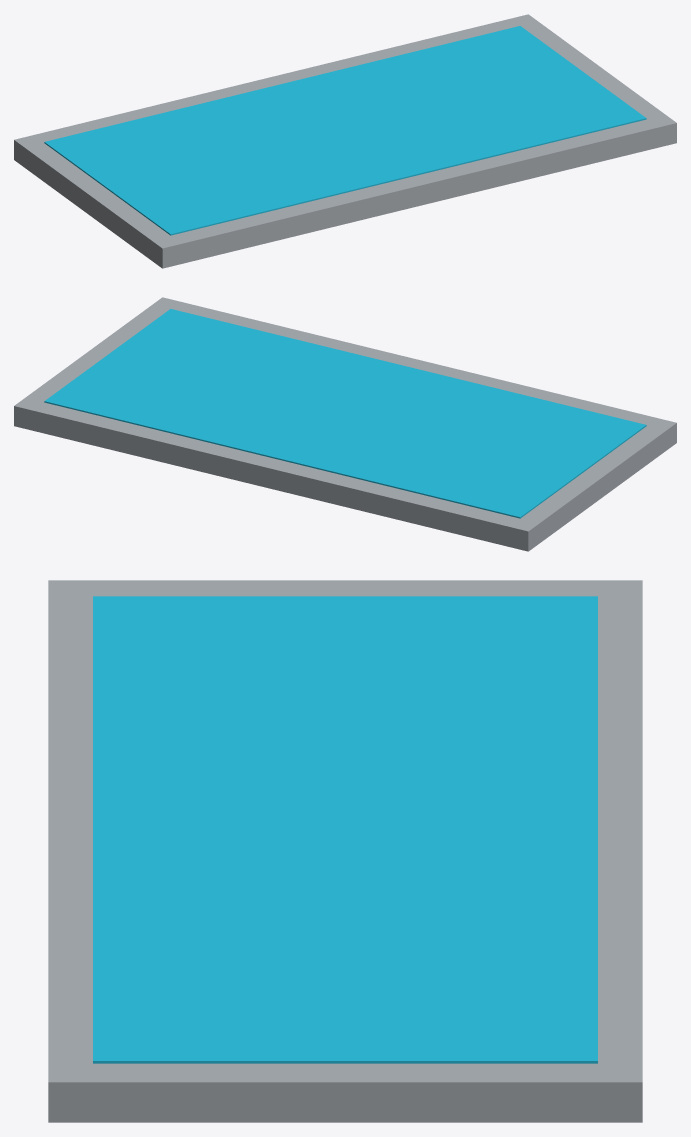
Rendered from arqwelia-pool-poc.glb.
3 renders of one model, top to bottom at view 1: azimuth 30°, elevation 25°; view 2: azimuth 150°, elevation 25°; view 3: azimuth 270°, elevation 25°, orthographic. The views are drawn at different scales.
Parts seen in each view (by area): view 1: arqwelia_water_surface, arqwelia_pool_deck; view 2: arqwelia_water_surface, arqwelia_pool_deck; view 3: arqwelia_water_surface, arqwelia_pool_deck.
Part boxes in pixels (box(x1,y1,x2,y2)): arqwelia_water_surface: box(44, 26, 646, 235); arqwelia_pool_deck: box(14, 14, 676, 268); arqwelia_water_surface: box(44, 309, 646, 518); arqwelia_pool_deck: box(14, 297, 676, 551); arqwelia_water_surface: box(93, 596, 597, 1063); arqwelia_pool_deck: box(48, 580, 642, 1122).
Size of the model in its own units: 8 by 0.32 by 4.
